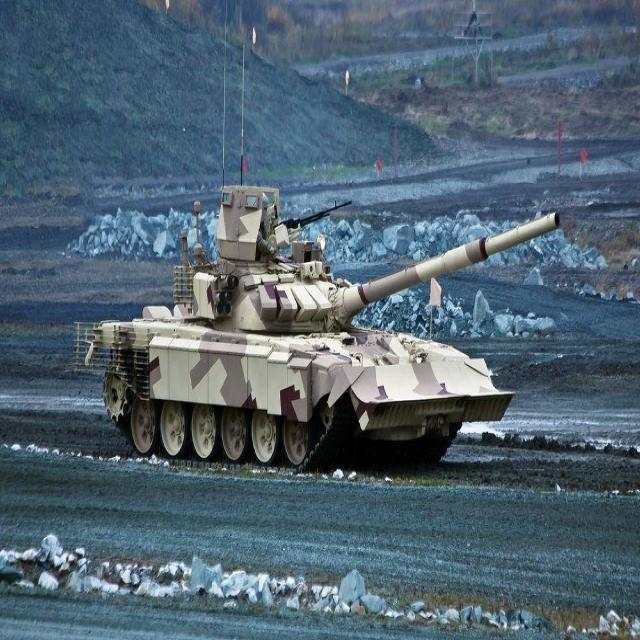MIL_MBT: (75, 167, 524, 478)
